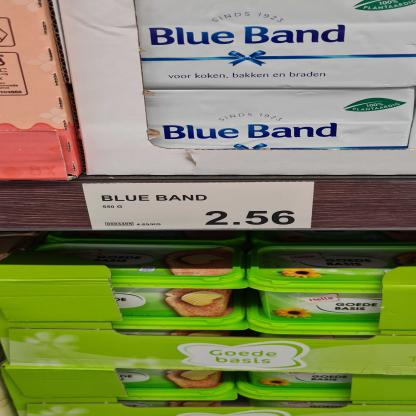prtg: (83, 183, 315, 231)
